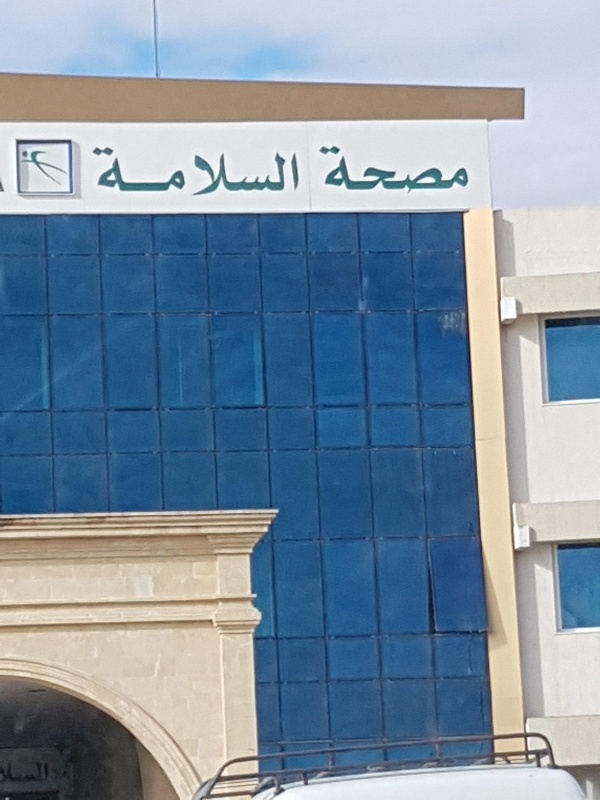text: (321, 144, 336, 195), (337, 144, 352, 195), (353, 144, 368, 195), (369, 144, 384, 195), (385, 144, 400, 195), (401, 144, 416, 195), (417, 144, 432, 195), (433, 144, 448, 195), (449, 144, 464, 195), (97, 146, 112, 197), (113, 146, 128, 197), (129, 146, 144, 197), (145, 146, 160, 197), (161, 146, 176, 197), (177, 146, 192, 197), (193, 146, 208, 197), (209, 146, 224, 197), (225, 146, 240, 197), (241, 146, 256, 197), (257, 146, 272, 197), (273, 146, 288, 197), (289, 146, 301, 197), (465, 144, 471, 195), (92, 146, 96, 197), (317, 144, 320, 195)
